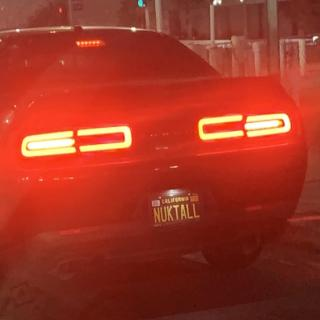license: (148, 191, 203, 230)
